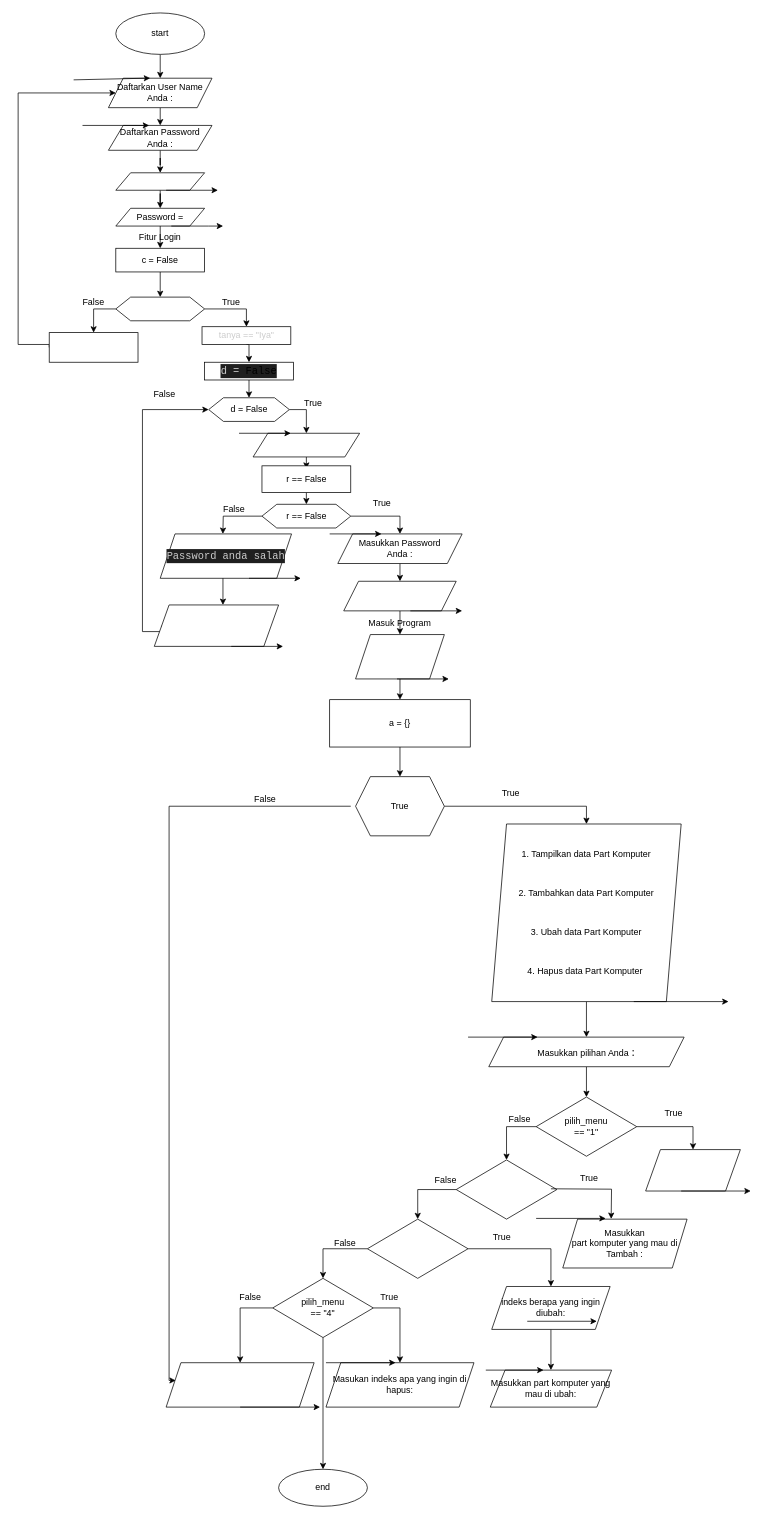
This 770x1519 diagram has some shape labels left out. The shapes that lost their labels are listed below. From the top down, each one's box as (x1, y1, x2, y2) in pixels, then its label:
(115, 172, 205, 190): Username =
(115, 296, 205, 321): c == False
(48, 332, 138, 362): tanya == "Tidak"
(252, 433, 360, 457): Masukkan Username Anda :
(343, 581, 456, 611): Login Berhasil
(154, 604, 279, 646): Mohon Maaf Username tidak terdaftar
(355, 634, 444, 679): Barang di Gudang
(455, 1159, 557, 1219): pilih_menu == "2"
(645, 1149, 740, 1191): List Part Komputer
(367, 1218, 468, 1278): pilih_menu == "3"
(165, 1362, 314, 1407): Pilihan Anda Tidak Valid
